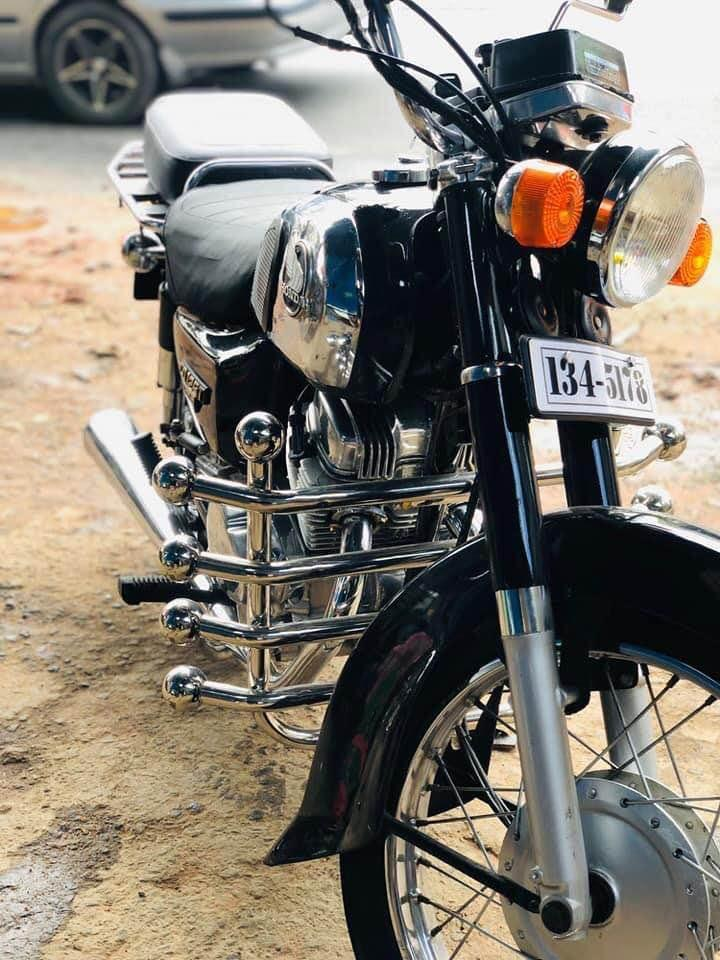motorbike: (82, 1, 720, 960)
